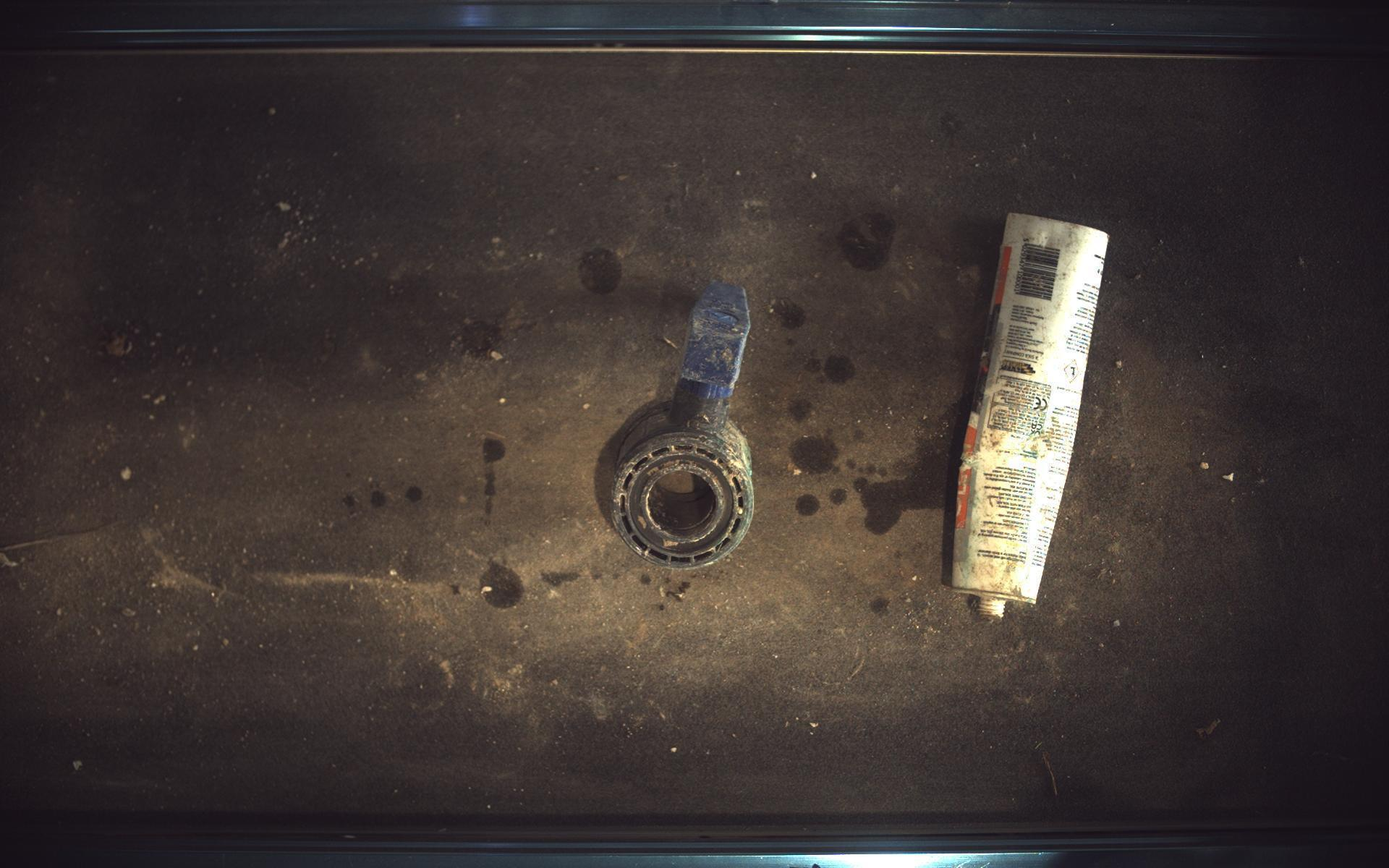plastic: (612, 281, 755, 569)
